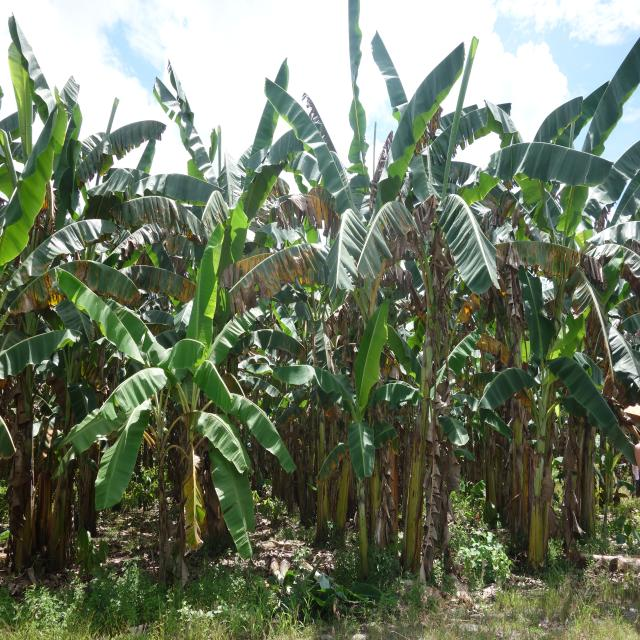Banana-plant: (392, 219, 463, 580), (517, 369, 556, 574), (150, 418, 178, 578)
